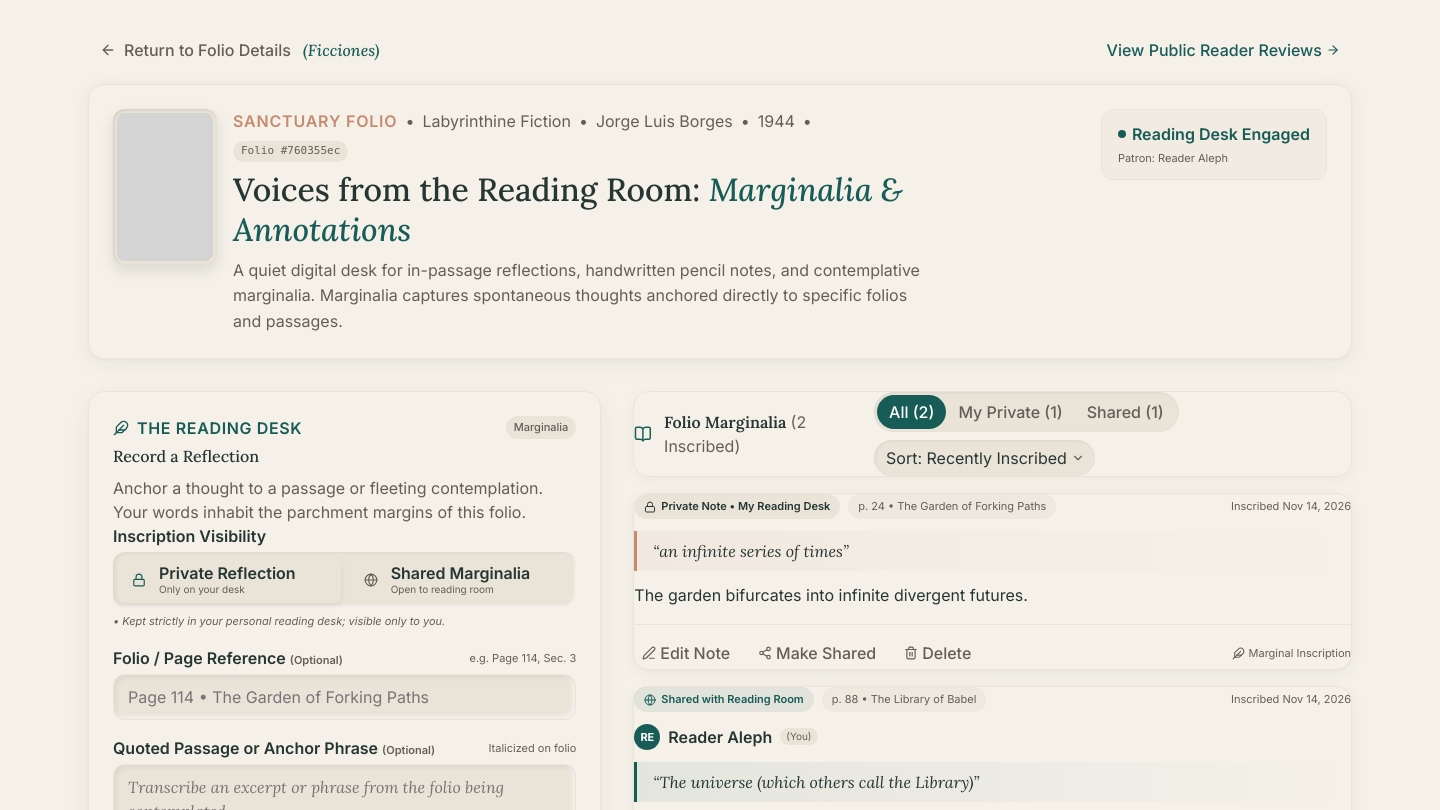
ReadingRoomPage › enters edit mode when Edit button on owned annotation card is clicked
Expected: the text "The garden bifurcates into infinite divergent futures." is shown, 634,585 -> 1028,605
Click the button "Edit Note" at (686, 653), box 634,637 -> 738,669
(page scrolled)
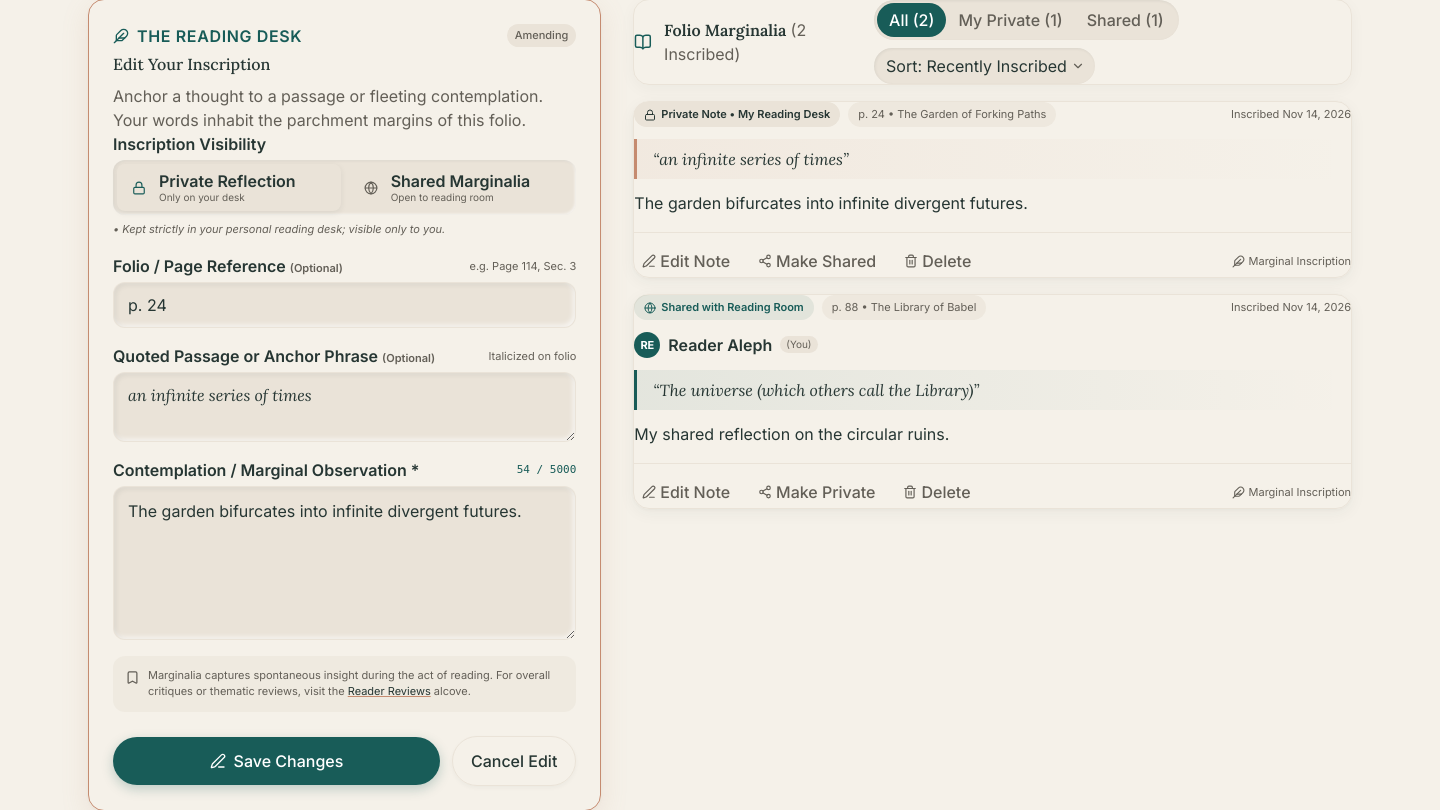
Expected: the heading "Edit Your Inscription" is shown, 113,54 -> 270,74
Expected: the button "Save Changes" is shown, 113,737 -> 440,785
Expected: the button "Cancel Edit" is shown
// Cancel edit
Click the button "Cancel Edit" at (514, 761), box 452,736 -> 576,786
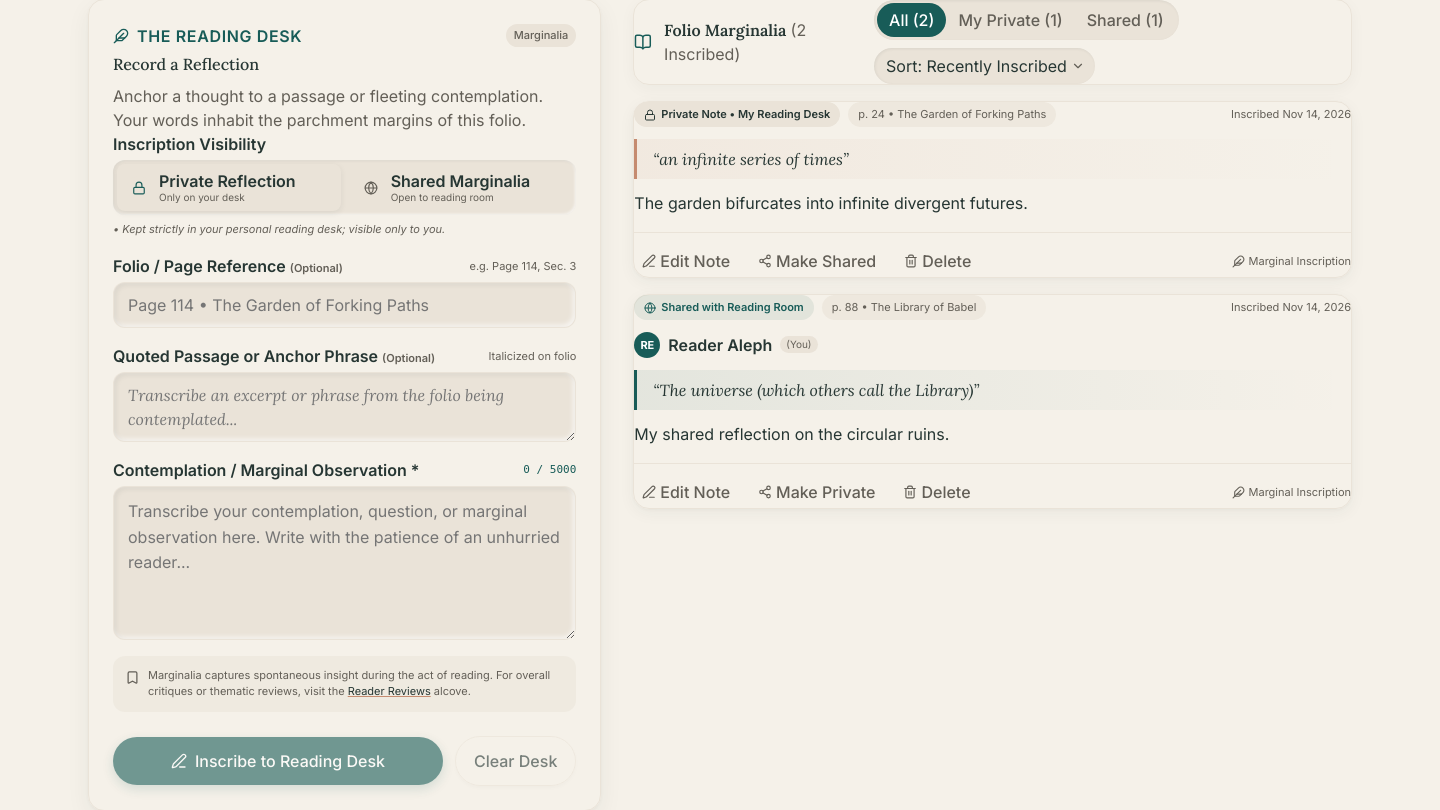
Expected: the heading "Record a Reflection" is shown, 113,54 -> 259,74
